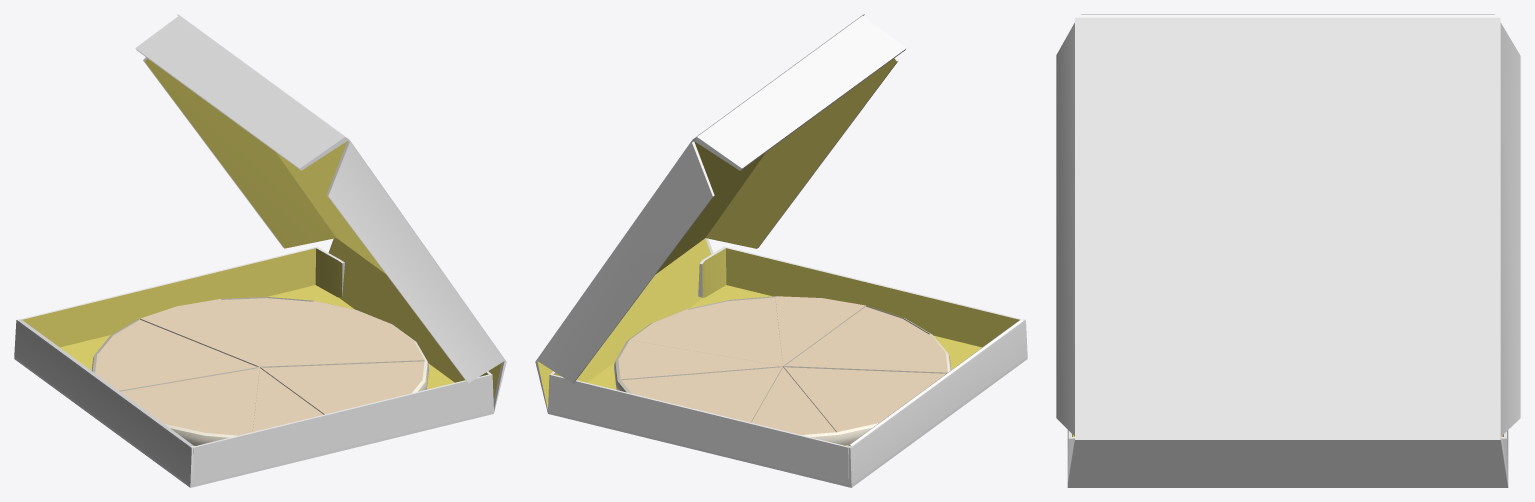
The model's file is totem_pizza.glb.
The picture shows the model from 3 angles, left to right: view 1: azimuth 30°, elevation 25°; view 2: azimuth 150°, elevation 25°; view 3: azimuth 270°, elevation 25°; orthographic projection. The views are drawn at different scales.
Visible parts, largest first — view 1: totem_dach_pizza; view 2: totem_dach_pizza; view 3: totem_dach_pizza.
Boxes of the visible parts, <box> form: totem_dach_pizza: <box>14,14,506,487</box>; totem_dach_pizza: <box>535,14,1027,487</box>; totem_dach_pizza: <box>1056,14,1520,487</box>.
Size of the model in its own units: 1.54 by 1.42 by 1.55.
